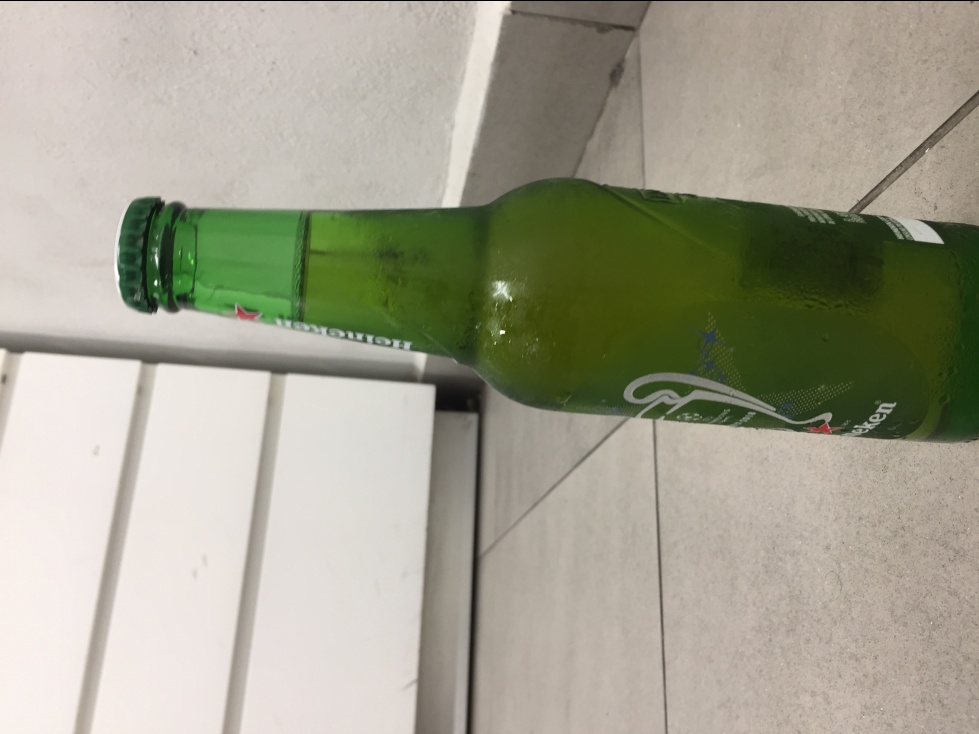heineken: (111, 174, 979, 448)
